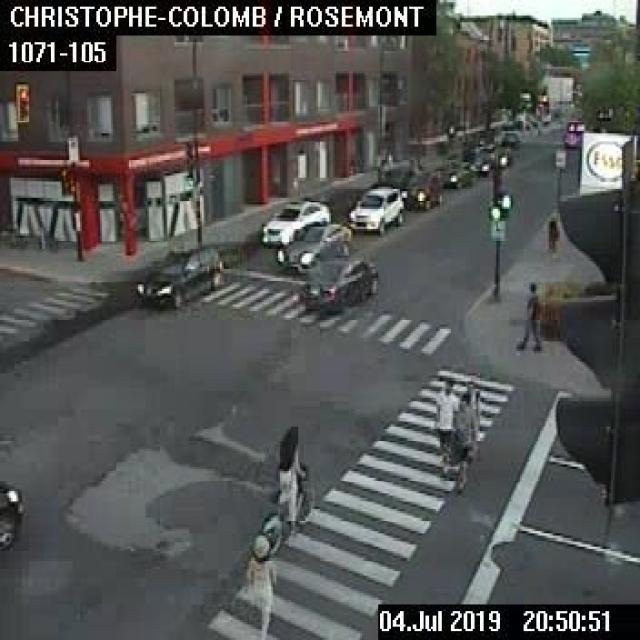cyclist: (256, 422, 310, 554)
pedestrian: (442, 394, 480, 491), (243, 529, 274, 638), (432, 376, 457, 464), (515, 280, 540, 351), (463, 377, 480, 413), (544, 211, 558, 249)
vehicle: (135, 245, 222, 308), (299, 254, 377, 309), (276, 222, 349, 269), (260, 199, 328, 244), (348, 185, 402, 233), (0, 475, 25, 551), (400, 174, 441, 208), (435, 163, 472, 186), (468, 153, 494, 175), (500, 129, 520, 146), (495, 149, 510, 165)
